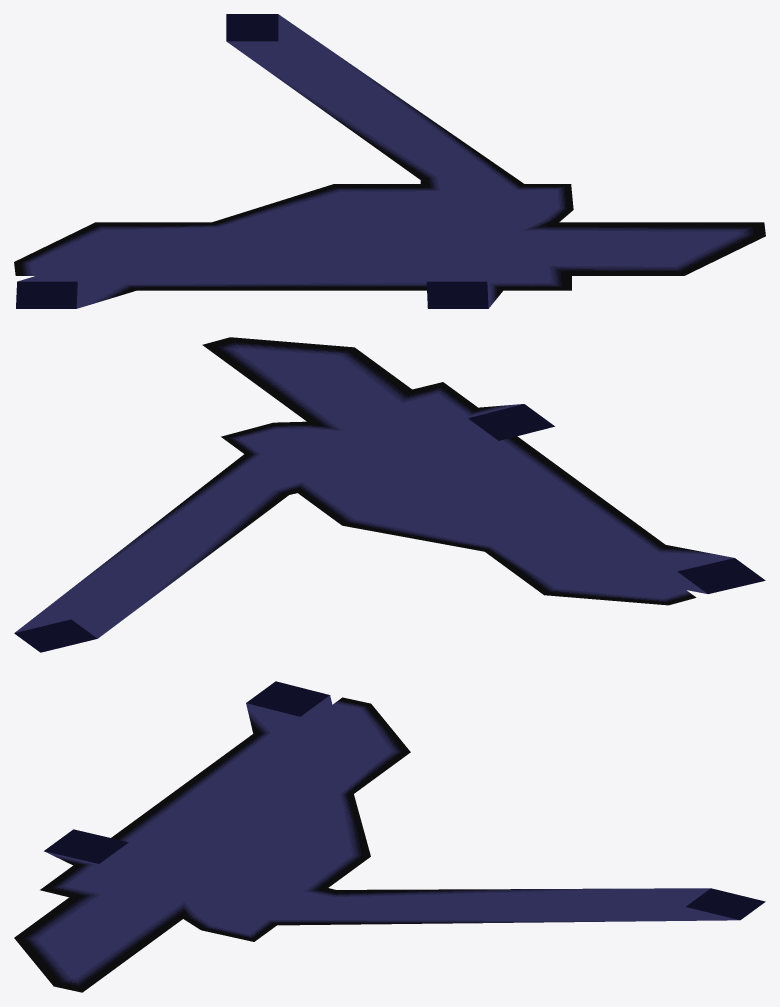
The picture shows the model from 3 angles, top to bottom: view 1: azimuth 30°, elevation 25°; view 2: azimuth 150°, elevation 25°; view 3: azimuth 270°, elevation 25°; orthographic projection. The views are drawn at different scales.
Parts seen in each view (by area): view 1: Joint_0_Object_0; view 2: Joint_0_Object_0; view 3: Joint_0_Object_0.
Boxes of the visible parts, left/top/right/bottom form: Joint_0_Object_0: left=14, top=14, right=765, bottom=308; Joint_0_Object_0: left=14, top=337, right=765, bottom=652; Joint_0_Object_0: left=14, top=681, right=765, bottom=992.
Bounding box in the file's own units: 1262 × 0 × 1288.
Materials: 1 (1 with a texture image).
